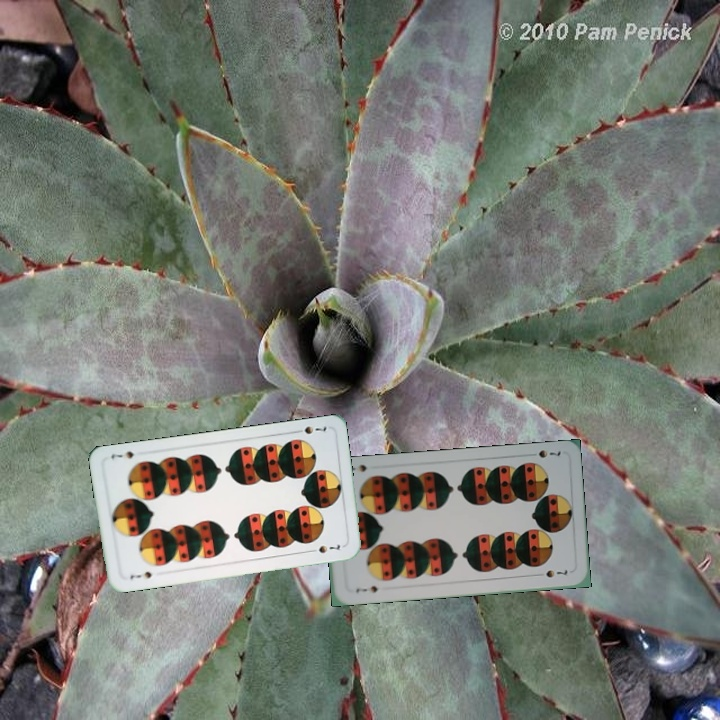S7: (290, 422, 329, 437), (524, 446, 563, 460), (126, 567, 154, 582), (352, 582, 383, 595)
